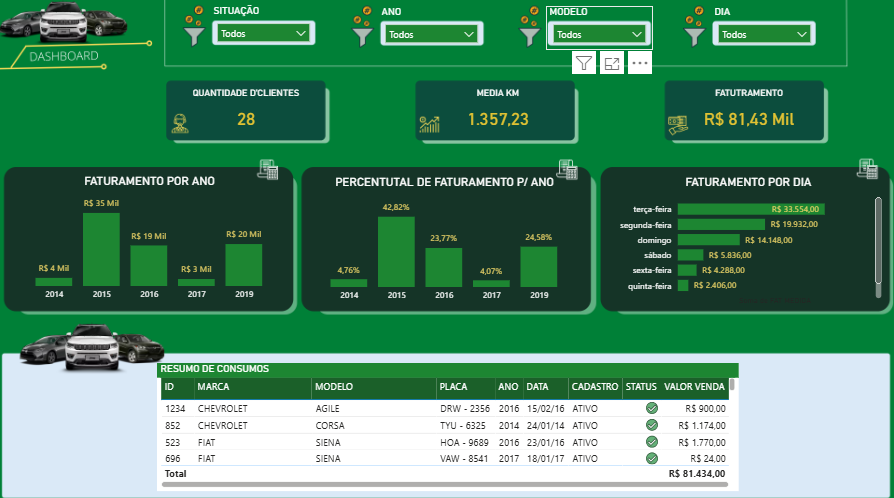

This screenshot's page, from the dashboard's own definition file:
{"tool":"powerbi","page":{"name":"Página 1","canvas":[1280,720],"ordinal":1},"visuals":[{"type":"slicer","title":"SITUAÇÃO","fields":{"Values":["tb_km.SITUAÇÃO CADASTRAL"]},"box":[301,7,153,63],"z":0},{"type":"slicer","title":"ANO","fields":{"Values":["tb_km.ANO"]},"box":[542,8,153,63],"z":1000},{"type":"slicer","title":"MODELO","fields":{"Values":["tb_km.MODELO"]},"box":[781,8,153,63],"z":2000},{"type":"slicer","title":"DIA","fields":{"Values":["tb_km.DIA"]},"box":[1017.1,8.6,152.9,62.9],"z":3000},{"type":"columnChart","title":"FATURAMENTO POR ANO","fields":{"Y":["Sum(tb_km.FAT MEDIDA)"],"Category":["tb_km.DATA.Variation.Hierarquia de datas.Ano","tb_km.DATA.Variation.Hierarquia de datas.Trimestre","tb_km.DATA.Variation.Hierarquia de datas.Mês","tb_km.DATA.Variation.Hierarquia de datas.Dia"]},"box":[20,249,390,190],"z":4000},{"type":"columnChart","title":"PERCENTUTAL DE FATURAMENTO P/ ANO","fields":{"Y":["Sum(tb_km.FAT MEDIDA)"],"Category":["tb_km.DATA.Variation.Hierarquia de datas.Ano","tb_km.DATA.Variation.Hierarquia de datas.Mês"]},"box":[441.4,250,390,190],"z":5000},{"type":"card","title":"FATUTRAMENTO","fields":{"Values":["Sum(tb_km.FAT MEDIDA)"]},"box":[962.9,125.7,217.1,72.9],"z":6000},{"type":"card","title":"MEDIA KM","fields":{"Values":["tb_km.Medida KM"]},"box":[604.3,125.7,217.1,72.9],"z":7000},{"type":"card","title":"QUANTIDADE D''CLIENTES","fields":{"Values":["tb_km.QTD CLIENTES"]},"box":[244.3,125.7,217.1,72.9],"z":8000},{"type":"tableEx","title":"RESUMO DE CONSUMOS","fields":{"Values":["tb_km.ID_CLIENTE","tb_km.MARCA","tb_km.MODELO","tb_km.PLACA","tb_km.ANO","tb_km.DATA","tb_km.SITUAÇÃO CADASTRAL","tb_km.ICONE","Sum(tb_km.FAT MEDIDA)"]},"box":[225.4,518.7,830.6,182.8],"z":9000},{"type":"barChart","title":"FATURAMENTO POR DIA","fields":{"Y":["Sum(tb_km.FAT MEDIDA)"],"Category":["tb_km.DATA.Variation.Hierarquia de datas.Ano","tb_km.DATA.Variation.Hierarquia de datas.Mês","tb_km.DATA.Variation.Hierarquia de datas.Dia","tb_km.NomeDoDia"]},"box":[875.9,249.4,389.8,189.9],"z":10000}]}

Visuals, with their boxes in screenshot pixels (x1, y1, x2, y2), scaled from the page's 1280x720 canvas onto the 894x498 screenshot:
"SITUAÇÃO" slicer: [210,5,317,48]
"ANO" slicer: [379,6,485,49]
"MODELO" slicer: [545,6,652,49]
"DIA" slicer: [710,6,817,49]
"FATURAMENTO POR ANO" columnChart: [14,172,286,304]
"PERCENTUTAL DE FATURAMENTO P/ ANO" columnChart: [308,173,581,304]
"FATUTRAMENTO" card: [673,87,824,137]
"MEDIA KM" card: [422,87,574,137]
"QUANTIDADE D''CLIENTES" card: [171,87,322,137]
"RESUMO DE CONSUMOS" tableEx: [157,359,738,485]
"FATURAMENTO POR DIA" barChart: [612,173,884,304]
